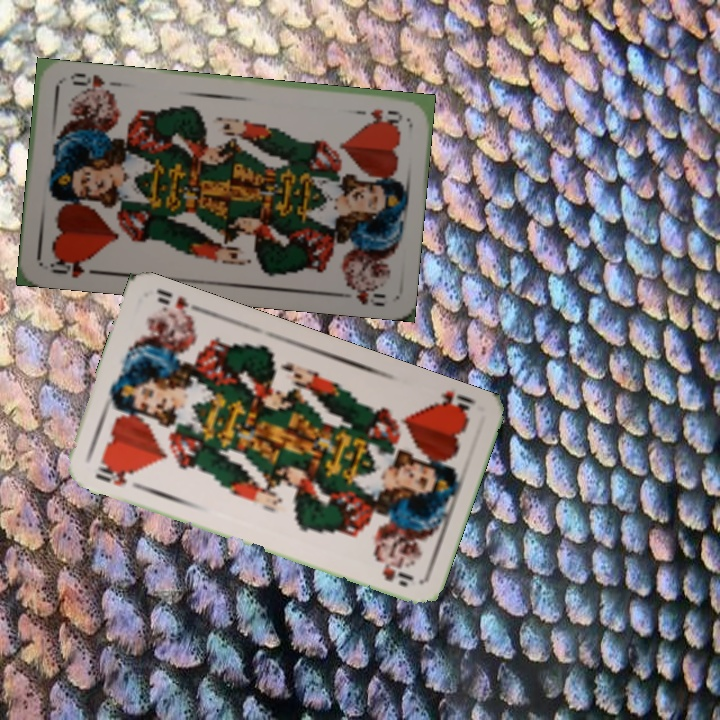HO: (425, 386, 474, 421), (46, 253, 102, 281), (91, 459, 136, 489), (348, 105, 405, 125)
